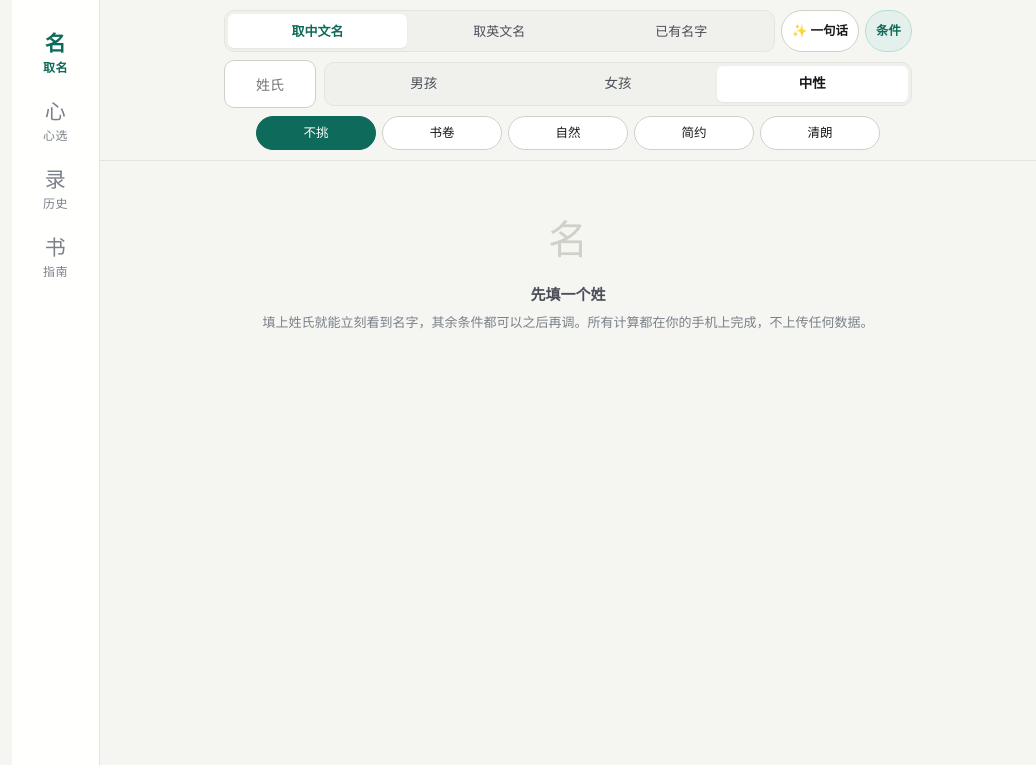
Scenario: 主流程 › 填上姓氏就立刻出名字，不需要走完向导
This screenshot has width=1036, height=765.
Expected: the heading "先填一个姓" is shown, x1=530 y1=285 x2=606 y2=304
In the field named "宝宝的姓氏": (270, 84) x1=224 y1=60 x2=316 y2=108, type "林"
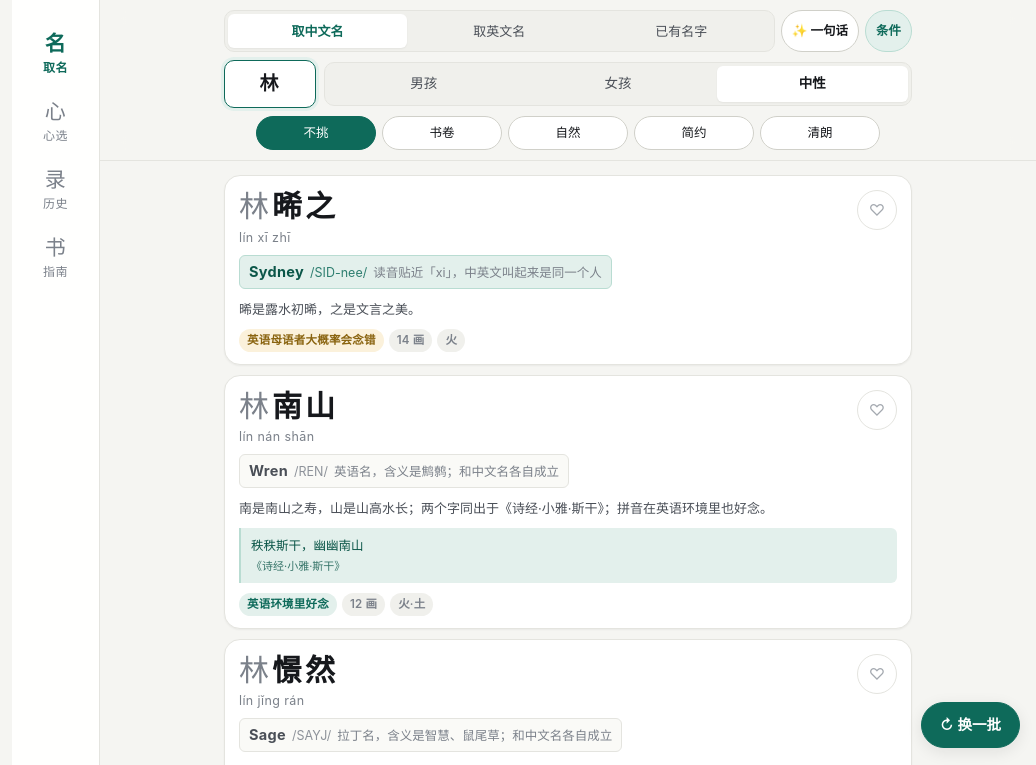
Now the number of buttons named "点开看详细解释" is 12
Now the button with aria-label "点开看详细解释" shows "林", box x1=224 y1=175 x2=912 y2=365
